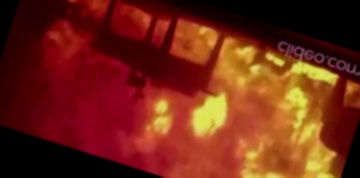fire: (19, 0, 360, 178)
